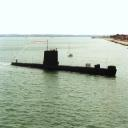submarine: (11, 40, 117, 77)
